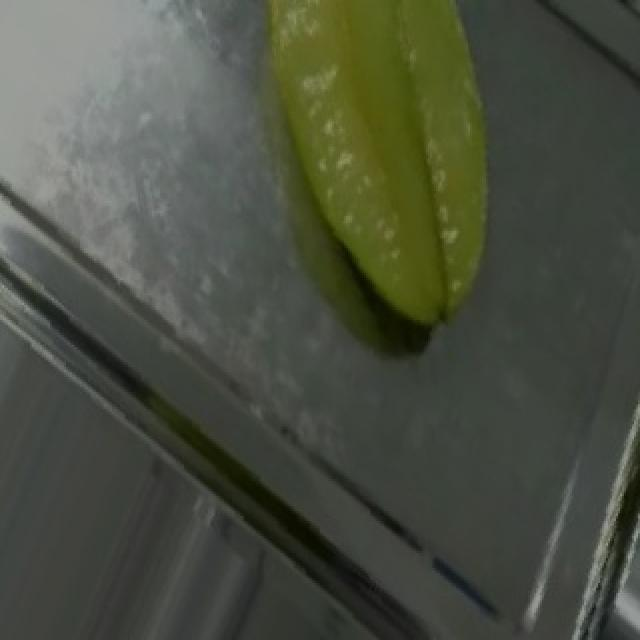fruit: (214, 0, 578, 332)
